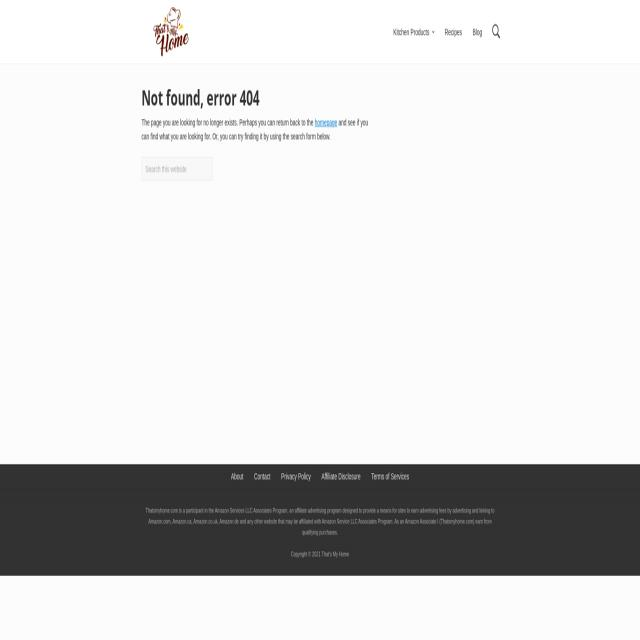button: (141, 5, 201, 60), (389, 23, 439, 40), (440, 23, 468, 39), (468, 23, 486, 40), (488, 23, 503, 40)
field: (141, 157, 213, 180)
